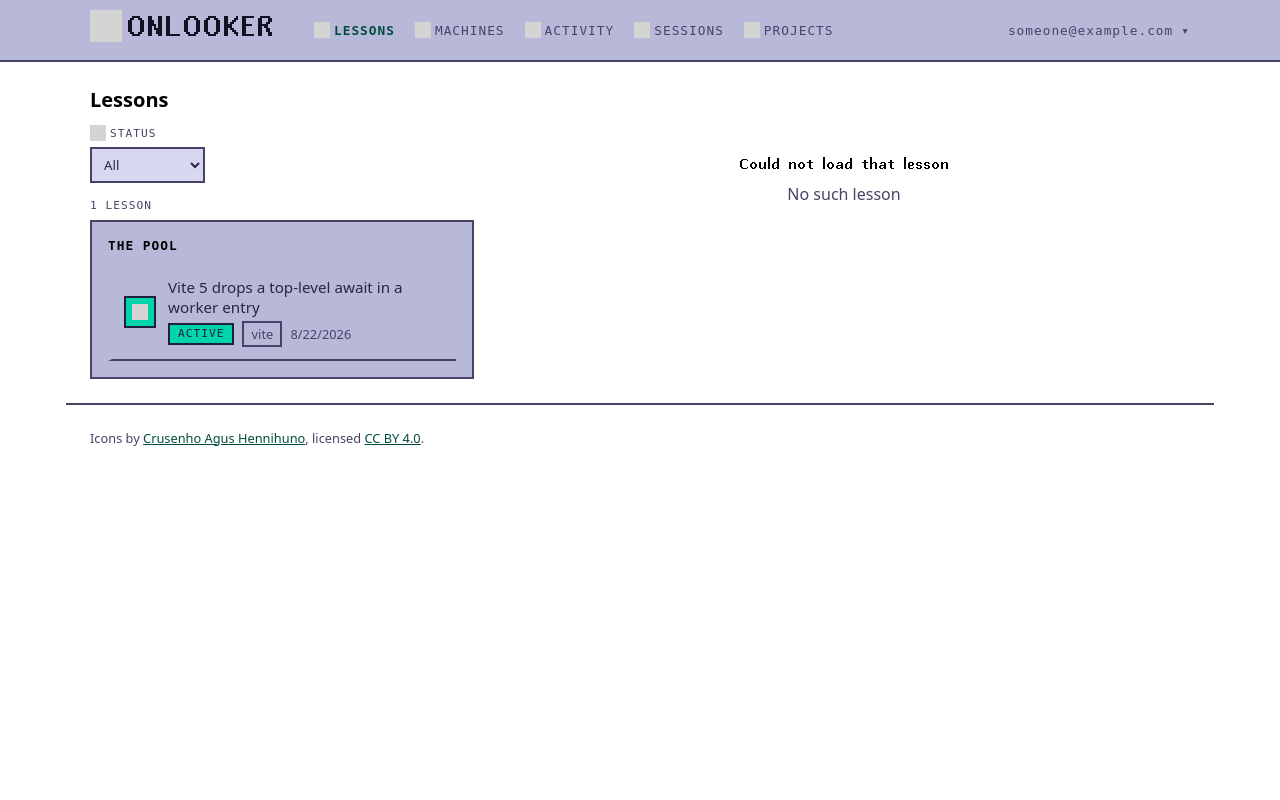
the detail pane › drops a fetch error once a lesson is in memory
Expected: the text "No such lesson" is shown, [787, 183, 901, 205]
Click the link "Vite 5 drops a top-level await in a worker entry": [140, 312] box [108, 265, 456, 361]
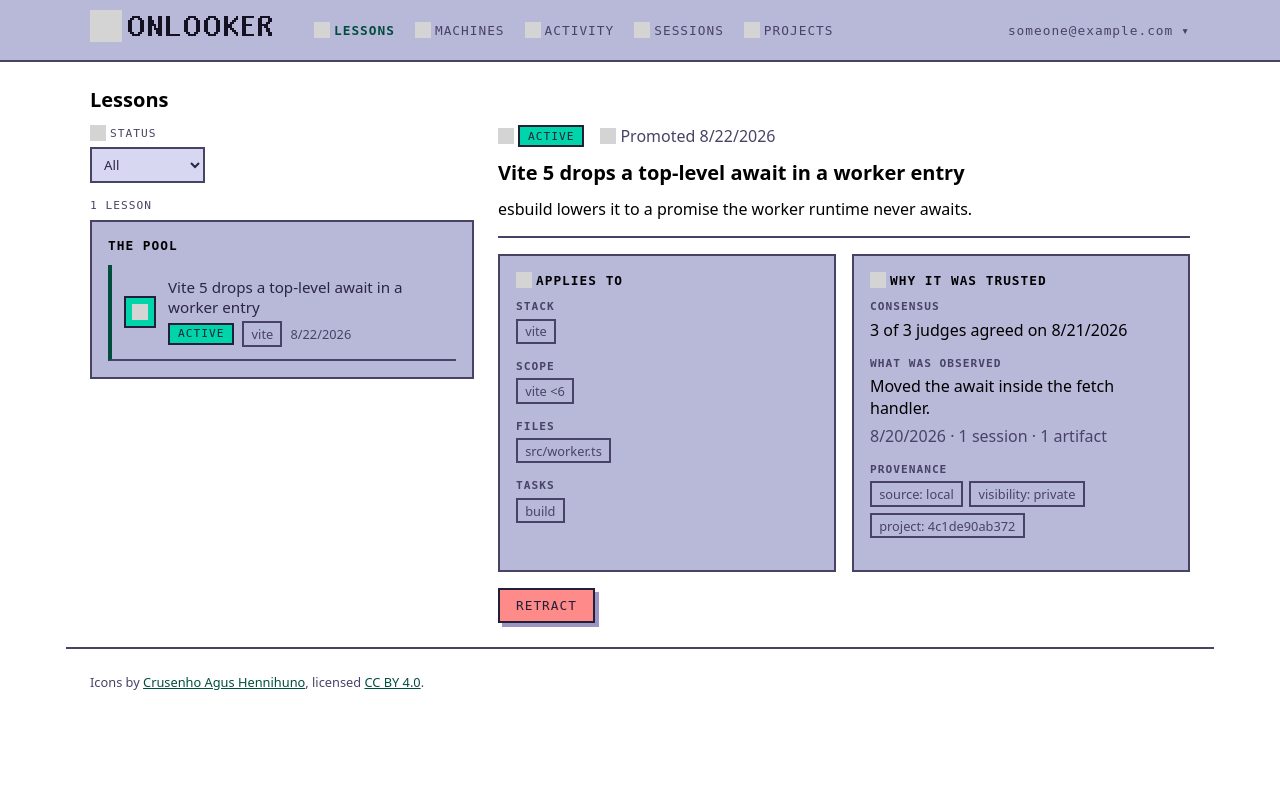
Expected: the heading "Vite 5 drops a top-level await in a worker entry" is shown, [498, 159, 965, 186]
Expected: the text "No such lesson" is gone
